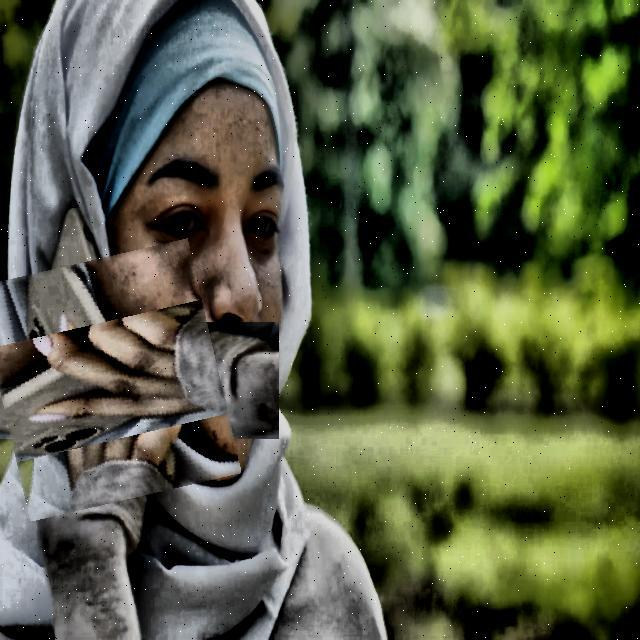Phone: (0, 248, 229, 510)
